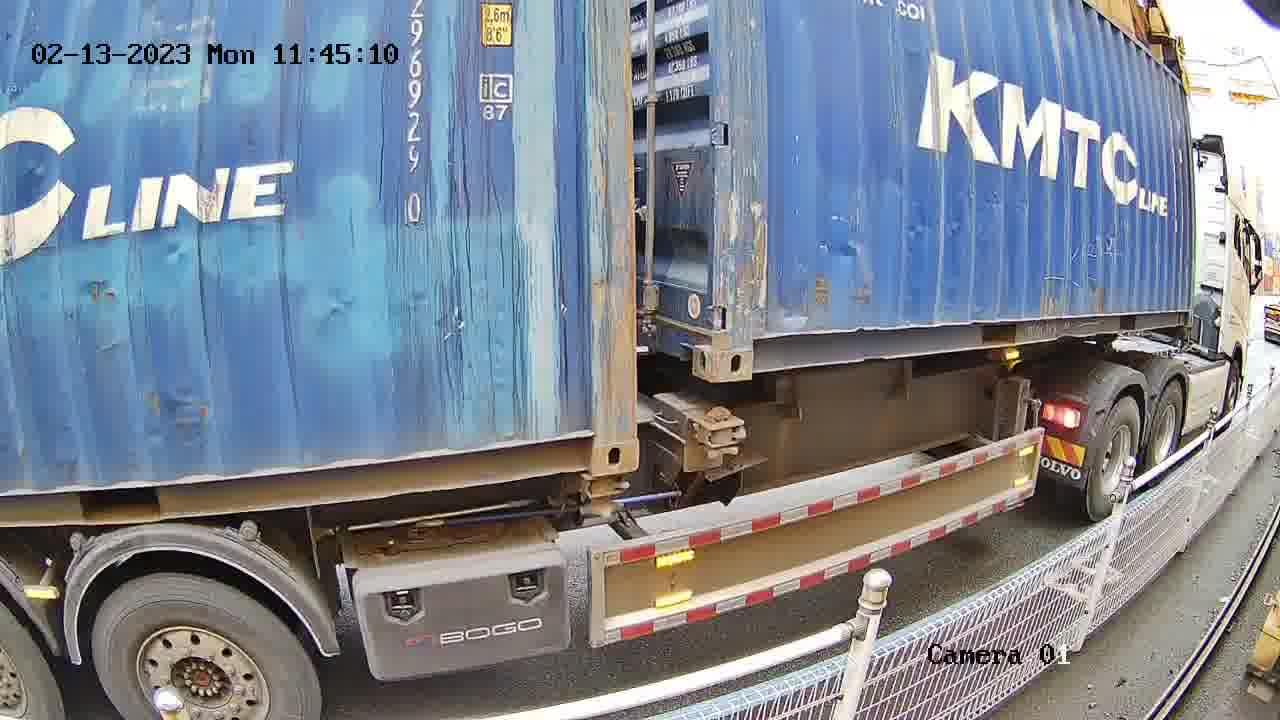Cone: (696, 407, 745, 457), (580, 475, 627, 521)
Hole_L: (714, 310, 779, 381)
Hole_R: (558, 410, 636, 477), (671, 306, 718, 383)
Tire: (1088, 398, 1140, 516), (1145, 383, 1184, 480)
